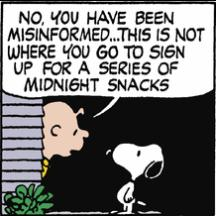charlie: (38, 100, 90, 182)
snoopy: (105, 139, 167, 214)
